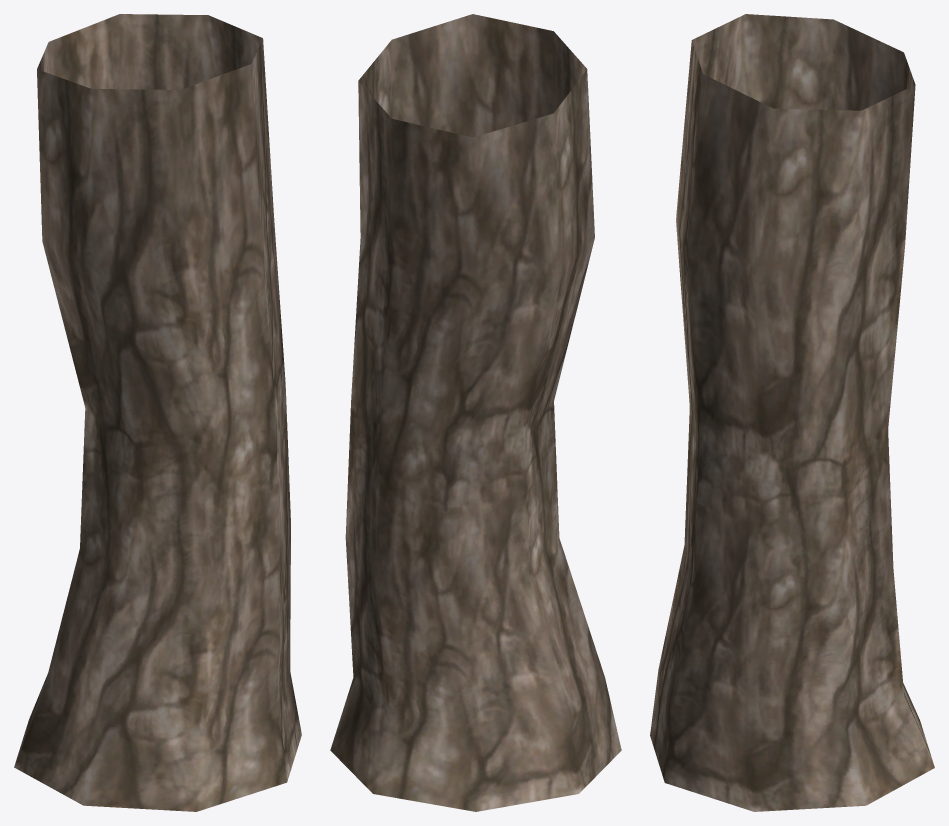
Rendered from EKH_CAVERNS_PS_CA_CYLINDER07.fbx.
3 views of the same model, side by side, from view 1: azimuth 30°, elevation 25°; view 2: azimuth 150°, elevation 25°; view 3: azimuth 270°, elevation 25° (orthographic). The views are drawn at different scales.
Parts seen in each view (by area): view 1: EKH_CAVERNS_PS_CA_CYLINDER07; view 2: EKH_CAVERNS_PS_CA_CYLINDER07; view 3: EKH_CAVERNS_PS_CA_CYLINDER07.
Boxes of the visible parts, x1,y1,x2,y2 form: EKH_CAVERNS_PS_CA_CYLINDER07: (14,14,301,811); EKH_CAVERNS_PS_CA_CYLINDER07: (330,14,621,811); EKH_CAVERNS_PS_CA_CYLINDER07: (650,14,934,811).
Size of the model in its own units: 38222 by 103757 by 38222.
1 material, 1 textured.
